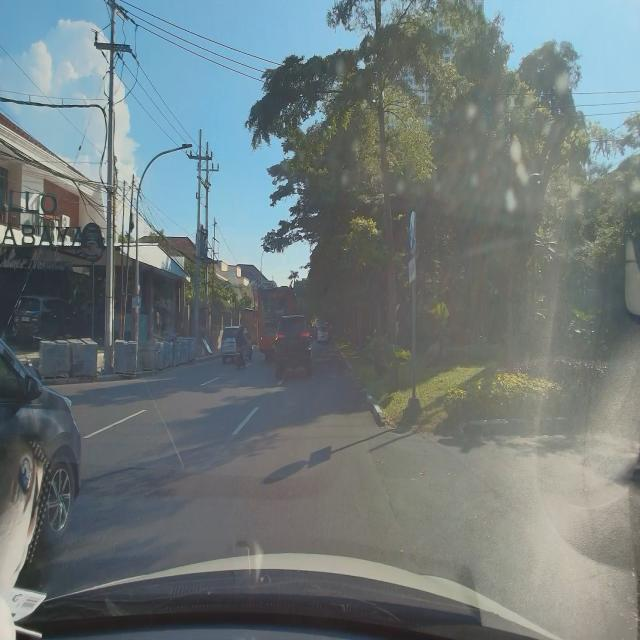car: (273, 312, 313, 378)
